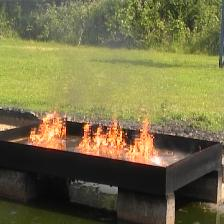fire: (33, 115, 158, 155)
